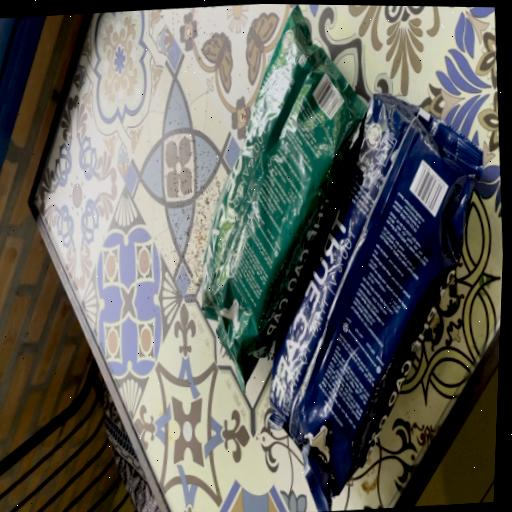cafe_hat: (270, 93, 482, 512)
cafe_xay: (201, 6, 366, 386)
